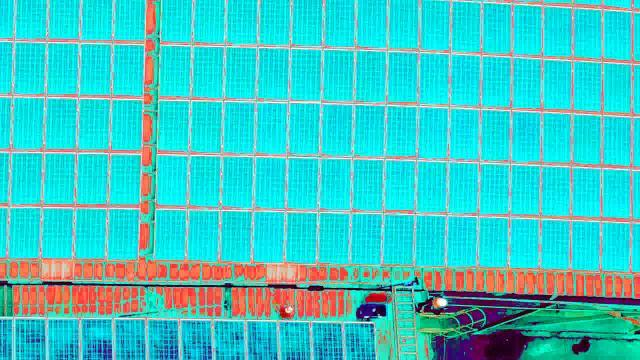dirty: (14, 39, 48, 95), (46, 39, 80, 95), (78, 37, 112, 93), (108, 40, 142, 96), (160, 40, 194, 96), (190, 46, 224, 102), (225, 47, 259, 103), (257, 46, 291, 102), (288, 48, 322, 104), (318, 46, 352, 102), (351, 49, 385, 105), (385, 47, 419, 103), (416, 49, 450, 105), (449, 51, 483, 107), (484, 50, 515, 106), (510, 52, 541, 108), (541, 55, 572, 111), (571, 59, 602, 115), (602, 60, 633, 116), (600, 5, 631, 61), (571, 5, 602, 61), (541, 3, 572, 59), (511, 1, 542, 57), (602, 112, 633, 168), (572, 109, 603, 165), (538, 111, 569, 167), (510, 109, 541, 165), (480, 104, 511, 160), (450, 107, 481, 163), (415, 105, 446, 161), (387, 103, 418, 159), (353, 103, 384, 159), (324, 100, 355, 156), (290, 102, 321, 158), (256, 102, 287, 158), (222, 100, 253, 156), (191, 98, 222, 154), (160, 98, 191, 154), (112, 95, 143, 151), (80, 98, 111, 154), (46, 93, 77, 149), (10, 93, 41, 149), (9, 151, 40, 207), (41, 153, 72, 209), (75, 150, 106, 206), (109, 152, 140, 208), (157, 153, 188, 209), (190, 156, 221, 212), (222, 152, 253, 208), (253, 155, 284, 211), (284, 156, 315, 212), (322, 157, 353, 213), (355, 157, 386, 213), (391, 156, 422, 212), (420, 158, 451, 214), (448, 159, 479, 215), (478, 160, 509, 216), (508, 161, 539, 217), (541, 164, 572, 220), (570, 160, 601, 216), (601, 165, 632, 221), (601, 218, 632, 274), (569, 215, 600, 271), (537, 217, 568, 273), (9, 316, 48, 360), (44, 316, 83, 360), (75, 316, 114, 360), (106, 316, 145, 360), (144, 314, 183, 358), (180, 316, 219, 360), (210, 316, 249, 360), (240, 316, 279, 360), (211, 316, 250, 360), (272, 316, 311, 360), (303, 316, 342, 360), (336, 316, 375, 360), (510, 217, 540, 274), (478, 214, 508, 271), (446, 210, 476, 267), (414, 210, 444, 267), (383, 207, 413, 264), (351, 210, 381, 267), (318, 205, 348, 262), (287, 209, 317, 266), (251, 208, 281, 265), (221, 209, 251, 266), (189, 207, 219, 264), (157, 207, 187, 264), (106, 207, 136, 264), (74, 203, 104, 260), (44, 205, 74, 262), (8, 203, 38, 260), (479, 1, 510, 55), (453, 1, 484, 55)
